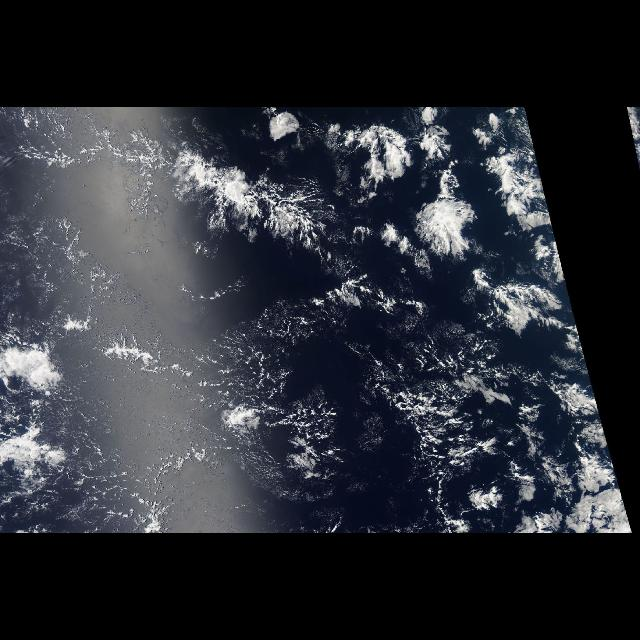Fish: (13, 120, 393, 276), (292, 344, 500, 524)
Flower: (326, 122, 634, 532)
